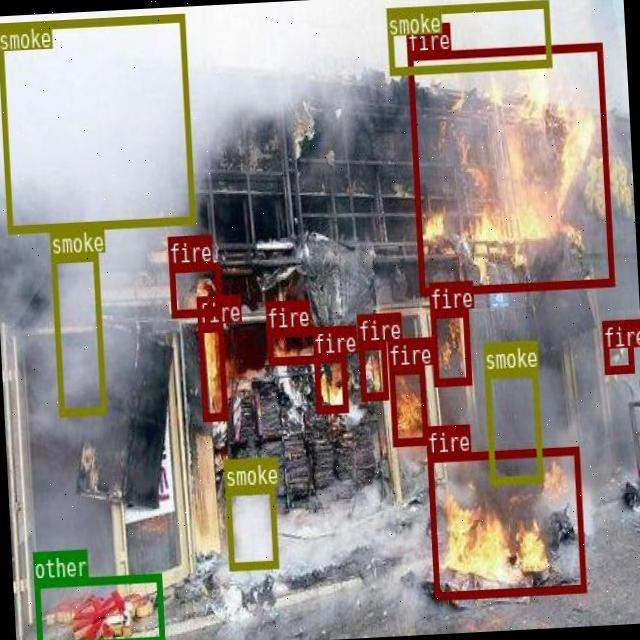fire: (408, 42, 614, 295), (426, 446, 584, 598), (429, 307, 472, 385), (388, 364, 428, 446), (197, 322, 226, 419), (168, 262, 220, 316), (314, 352, 348, 413), (266, 327, 322, 364), (358, 340, 387, 400), (601, 319, 633, 372)
smoke: (0, 13, 195, 232), (386, 0, 551, 73), (50, 252, 106, 416), (484, 368, 543, 483), (225, 484, 278, 570)
